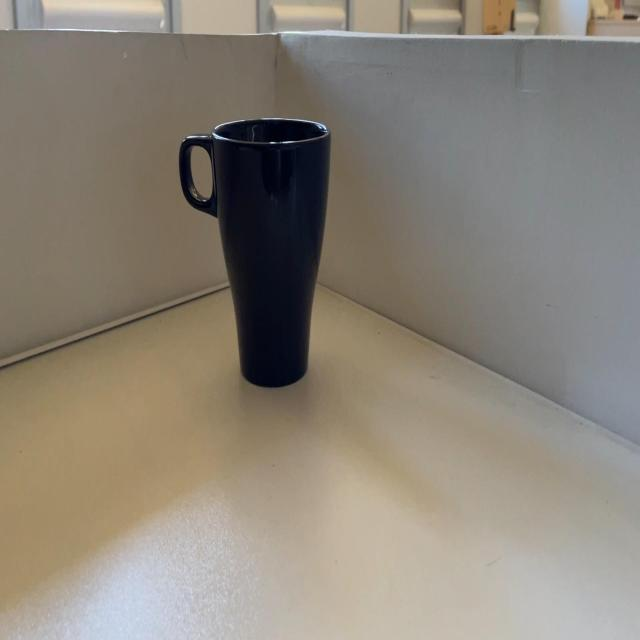cup: (188, 112, 338, 388)
